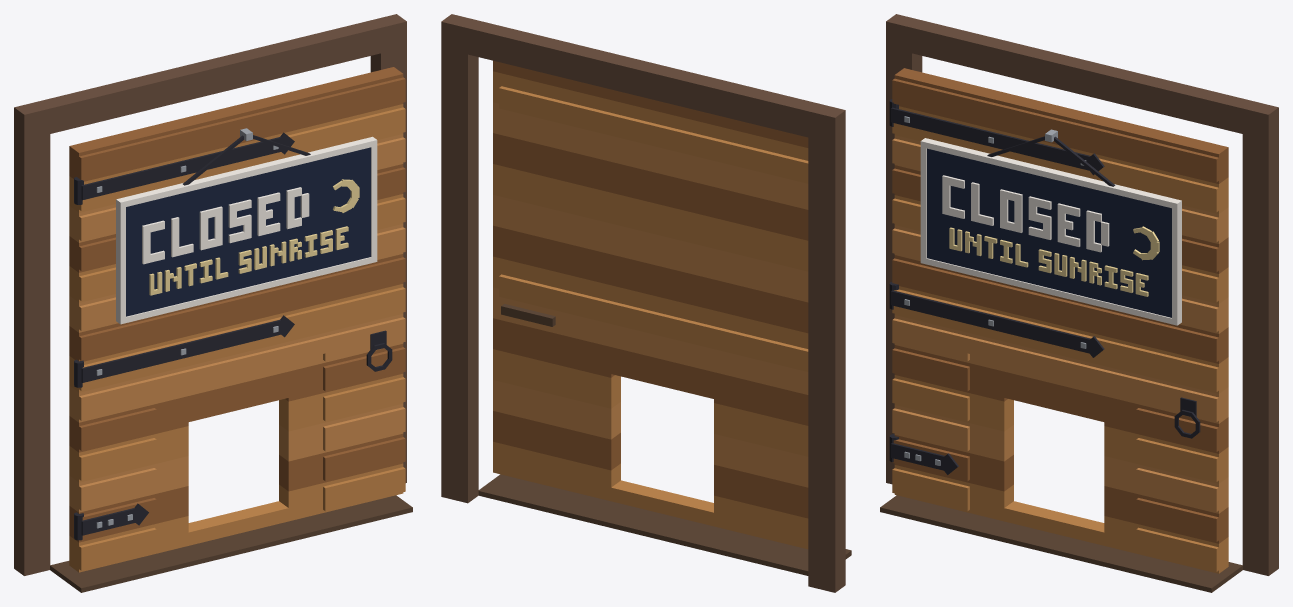
Rendered from CatCafe_Door_LogCabin_Back.fbx.
3 renders of one model, left to right at view 1: azimuth 30°, elevation 25°; view 2: azimuth 150°, elevation 25°; view 3: azimuth 330°, elevation 25°, orthographic. The views are drawn at different scales.
Visible parts, largest first — view 1: CatCafe_Door_LogCabin_Back_Leaf, CatCafe_Door_LogCabin_Back, CatCafe_Door_LogCabin_Back_Sign, CatCafe_Door_LogCabin_Back_Sign_Bulb; view 2: CatCafe_Door_LogCabin_Back_Leaf, CatCafe_Door_LogCabin_Back; view 3: CatCafe_Door_LogCabin_Back_Leaf, CatCafe_Door_LogCabin_Back, CatCafe_Door_LogCabin_Back_Sign, CatCafe_Door_LogCabin_Back_Sign_Bulb.
Boxes of the visible parts, left/top/right/bottom form: CatCafe_Door_LogCabin_Back_Leaf: left=69, top=67, right=405, bottom=572; CatCafe_Door_LogCabin_Back: left=14, top=14, right=412, bottom=592; CatCafe_Door_LogCabin_Back_Sign: left=116, top=128, right=377, bottom=324; CatCafe_Door_LogCabin_Back_Sign_Bulb: left=142, top=179, right=359, bottom=295; CatCafe_Door_LogCabin_Back_Leaf: left=493, top=60, right=808, bottom=549; CatCafe_Door_LogCabin_Back: left=441, top=14, right=851, bottom=592; CatCafe_Door_LogCabin_Back_Leaf: left=889, top=68, right=1228, bottom=573; CatCafe_Door_LogCabin_Back: left=880, top=14, right=1278, bottom=592; CatCafe_Door_LogCabin_Back_Sign: left=920, top=129, right=1181, bottom=325; CatCafe_Door_LogCabin_Back_Sign_Bulb: left=942, top=175, right=1159, bottom=296.
Bounding box in the file's own units: 6.9 × 7.95 × 1.3.
1 material, 1 textured.
